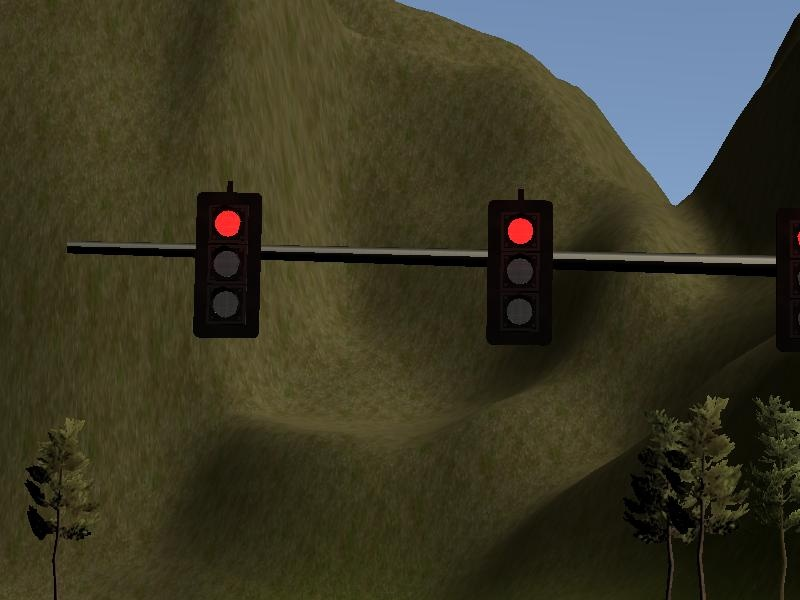RED: (488, 198, 556, 349), (193, 189, 261, 340)
